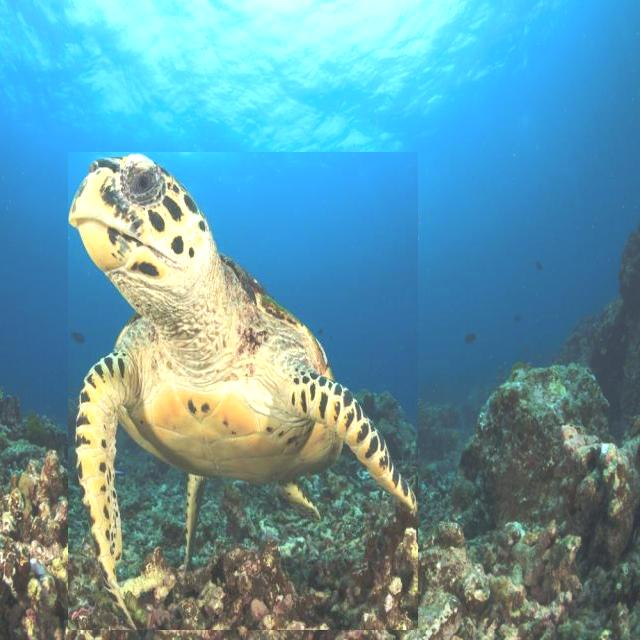Sea turtle: (69, 152, 418, 630)
